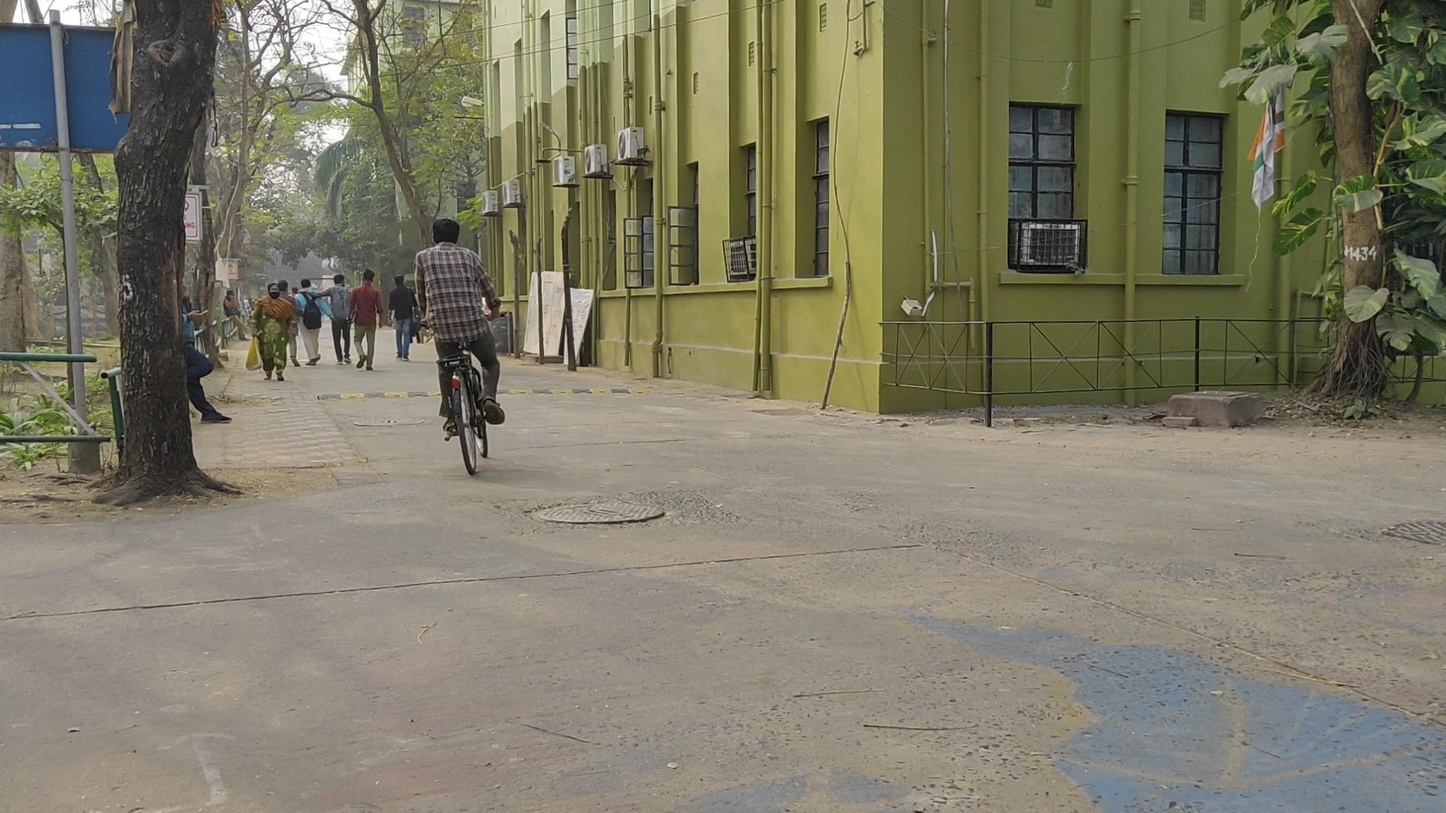bike: (421, 215, 505, 482)
